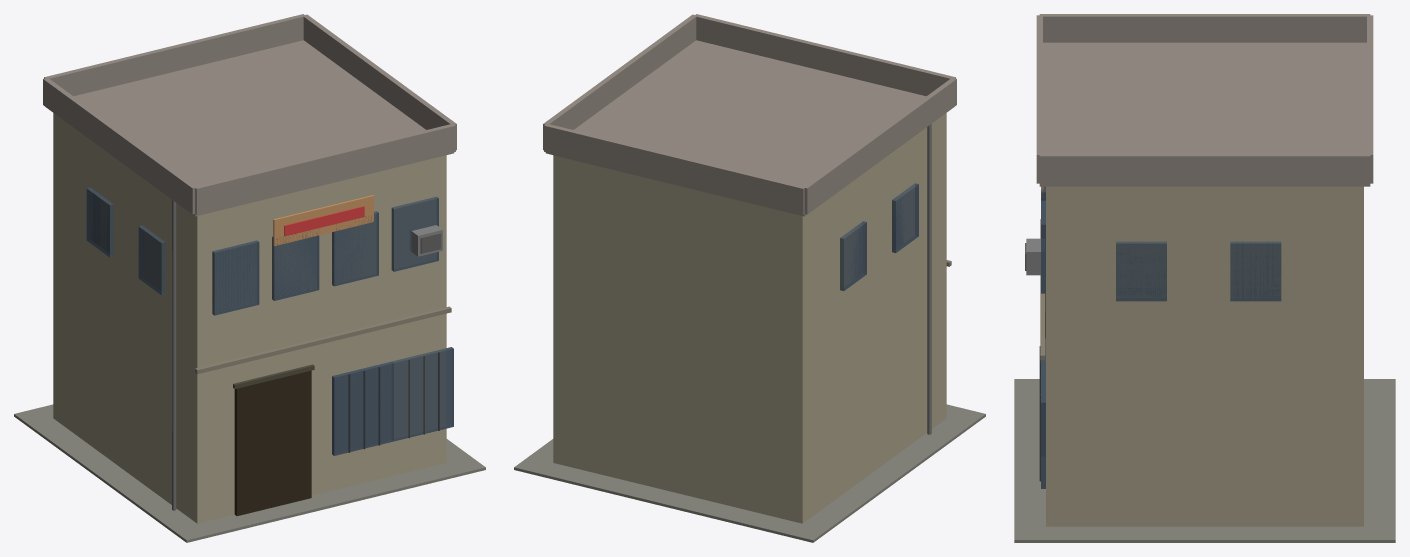
The model's file is concrete-building.glb.
The picture shows the model from 3 angles, left to right: view 1: azimuth 30°, elevation 25°; view 2: azimuth 150°, elevation 25°; view 3: azimuth 270°, elevation 25°; orthographic projection. The views are drawn at different scales.
Parts seen in each view (by area): view 1: Mesh_Building, Mesh_Roof, Mesh_GroundDoor, Mesh_Sidewalk, Mesh_ParapetFront, Mesh_ParapetBack, Mesh_ParapetLeft, Mesh_GroundWindowL, Mesh_GroundWindowR, Mesh_ParapetRight, Mesh_UpperWindow1, Mesh_UpperWindow2 (+8 smaller); view 2: Mesh_Building, Mesh_Roof, Mesh_Sidewalk, Mesh_ParapetBack, Mesh_ParapetFront, Mesh_ParapetLeft, Mesh_ParapetRight, Mesh_Pipe, Mesh_SideWinL1, Mesh_SideWinL2; view 3: Mesh_Building, Mesh_Roof, Mesh_Sidewalk, Mesh_ParapetRight, Mesh_ParapetLeft, Mesh_SideWinR1, Mesh_SideWinR2, Mesh_ParapetFront, Mesh_ParapetBack, Mesh_GroundWindowR, Mesh_ACUnit, Mesh_UpperWindow4.
Part boxes in pixels (left/top/right/bottom): Mesh_Building: left=53, top=113, right=446, bottom=523; Mesh_Roof: left=46, top=40, right=454, bottom=216; Mesh_GroundDoor: left=234, top=370, right=311, bottom=516; Mesh_Sidewalk: left=14, top=404, right=485, bottom=542; Mesh_ParapetFront: left=194, top=124, right=455, bottom=214; Mesh_ParapetBack: left=44, top=14, right=303, bottom=96; Mesh_ParapetLeft: left=43, top=78, right=195, bottom=214; Mesh_GroundWindowL: left=332, top=361, right=393, bottom=455; Mesh_GroundWindowR: left=392, top=347, right=453, bottom=441; Mesh_ParapetRight: left=303, top=14, right=456, bottom=150; Mesh_UpperWindow1: left=212, top=240, right=259, bottom=315; Mesh_UpperWindow2: left=272, top=229, right=319, bottom=300; Mesh_Building: left=553, top=113, right=946, bottom=523; Mesh_Roof: left=545, top=40, right=953, bottom=216; Mesh_Sidewalk: left=514, top=404, right=985, bottom=542; Mesh_ParapetBack: left=544, top=124, right=805, bottom=214; Mesh_ParapetFront: left=694, top=14, right=955, bottom=96; Mesh_ParapetLeft: left=803, top=78, right=956, bottom=214; Mesh_ParapetRight: left=543, top=14, right=696, bottom=150; Mesh_Pipe: left=927, top=124, right=931, bottom=434; Mesh_SideWinL1: left=840, top=221, right=866, bottom=290; Mesh_SideWinL2: left=892, top=183, right=918, bottom=253; Mesh_Building: left=1046, top=186, right=1363, bottom=526; Mesh_Roof: left=1039, top=42, right=1370, bottom=186; Mesh_Sidewalk: left=1014, top=379, right=1395, bottom=542; Mesh_ParapetRight: left=1039, top=153, right=1370, bottom=184; Mesh_ParapetLeft: left=1039, top=14, right=1370, bottom=42; Mesh_SideWinR1: left=1230, top=241, right=1281, bottom=301; Mesh_SideWinR2: left=1116, top=241, right=1166, bottom=301; Mesh_ParapetFront: left=1036, top=15, right=1042, bottom=183; Mesh_ParapetBack: left=1367, top=15, right=1373, bottom=183; Mesh_GroundWindowR: left=1041, top=370, right=1045, bottom=488; Mesh_ACUnit: left=1026, top=238, right=1043, bottom=275; Mesh_UpperWindow4: left=1041, top=200, right=1045, bottom=293.
Size of the model in its own units: 6 by 6.55 by 6.
